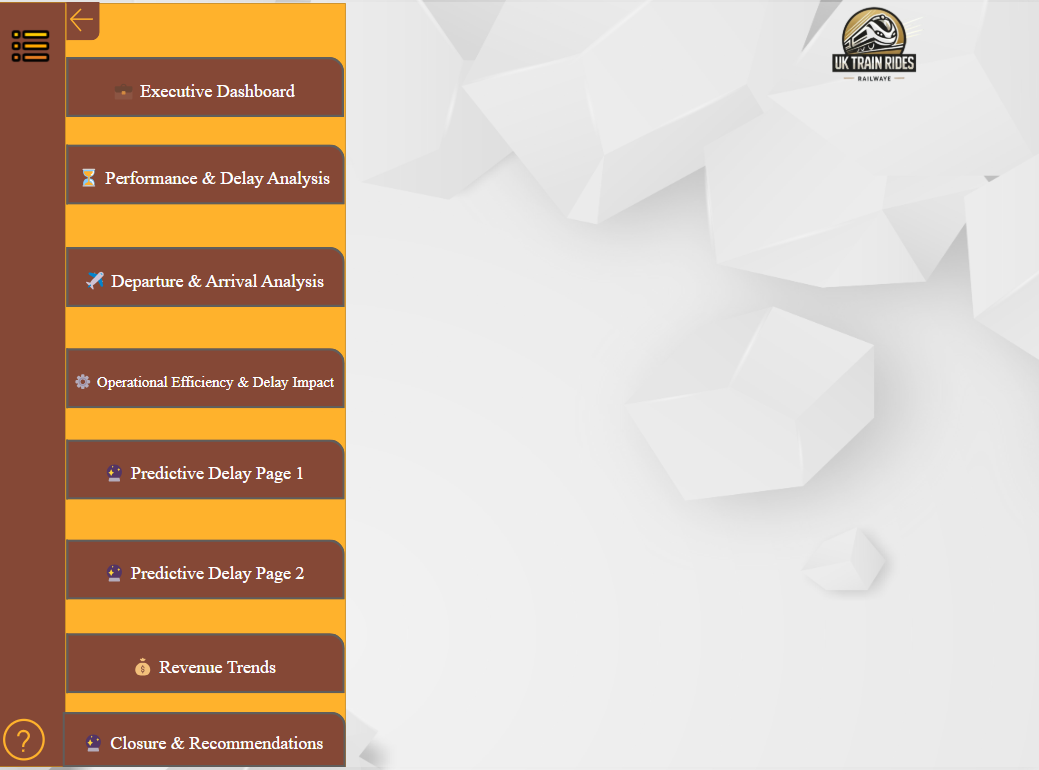

What the dashboard file says about the page in this screenshot:
{"tool":"powerbi","page":{"name":"🏠 Home","canvas":[1400,1020],"ordinal":0},"visuals":[{"type":"shape","title":"barshape ","box":[70,0,50,1020],"z":0},{"type":"actionButton","title":"Back button","box":[101.2,0,44.7,51.3],"z":0,"group":"g2"},{"type":"actionButton","title":"Q&A","box":[9.6,948,93.2,70.8],"z":0,"group":"g1"},{"type":"actionButton","title":"Executive dash button","box":[96.4,946.4,377.6,73.9],"z":500,"group":"g2"},{"type":"actionButton","title":"UK Train Rides","box":[96.4,0,1303.1,1018.7],"z":1000},{"type":"actionButton","title":"Menu show button","box":[24.2,1.6,73.7,114.5],"z":1000,"group":"g1"},{"type":"actionButton","title":"Executive dash button","box":[101.4,73.2,370.4,80.2],"z":1000,"group":"g2"},{"type":"shape","title":"main shape menu","box":[10,0,92.5,1020],"z":2000},{"type":"actionButton","title":"Executive dash button","box":[101.2,461.2,371.2,80.3],"z":2000,"group":"g2"},{"type":"shape","title":"barshape ","box":[99.6,1.3,374.4,1018.7],"z":3000},{"type":"actionButton","title":"Executive dash button","box":[101.2,583.3,371.2,80.3],"z":3000,"group":"g2"},{"type":"group","id":"g1","title":"control","box":[9.6,1.6,93.2,1017.1],"z":4000},{"type":"actionButton","title":"Executive dash button","box":[101.2,189.6,371.2,80.3],"z":4000,"group":"g2"},{"type":"group","id":"g2","title":"Menu Objects","box":[96.4,0,377.6,1020.3],"z":5000},{"type":"actionButton","title":"Executive dash button","box":[101.2,326.2,371.2,80.3],"z":5000,"group":"g2"},{"type":"actionButton","title":"Executive dash button","box":[101.2,842,371.2,80.3],"z":6000,"group":"g2"},{"type":"actionButton","title":"Executive dash button","box":[101.2,716.6,371.2,80.3],"z":7000,"group":"g2"},{"type":"image","box":[1092.2,0,187.8,118.3],"z":8000}]}

Visuals, with their boxes in screenshot pixels (x1, y1, x2, y2), scaled from the page's 1400x1020 canvas onto the 1039x770 screenshot:
"barshape " shape: Rect(52, 0, 89, 769)
"Back button" actionButton: Rect(75, 0, 108, 39)
"Q&A" actionButton: Rect(7, 716, 76, 769)
"Executive dash button" actionButton: Rect(72, 714, 352, 769)
"UK Train Rides" actionButton: Rect(72, 0, 1038, 769)
"Menu show button" actionButton: Rect(18, 1, 73, 88)
"Executive dash button" actionButton: Rect(75, 55, 350, 116)
"main shape menu" shape: Rect(7, 0, 76, 769)
"Executive dash button" actionButton: Rect(75, 348, 351, 409)
"barshape " shape: Rect(74, 1, 352, 769)
"Executive dash button" actionButton: Rect(75, 440, 351, 501)
"control" group: Rect(7, 1, 76, 769)
"Executive dash button" actionButton: Rect(75, 143, 351, 204)
"Menu Objects" group: Rect(72, 0, 352, 769)
"Executive dash button" actionButton: Rect(75, 246, 351, 307)
"Executive dash button" actionButton: Rect(75, 636, 351, 696)
"Executive dash button" actionButton: Rect(75, 541, 351, 602)
image: Rect(811, 0, 950, 89)
